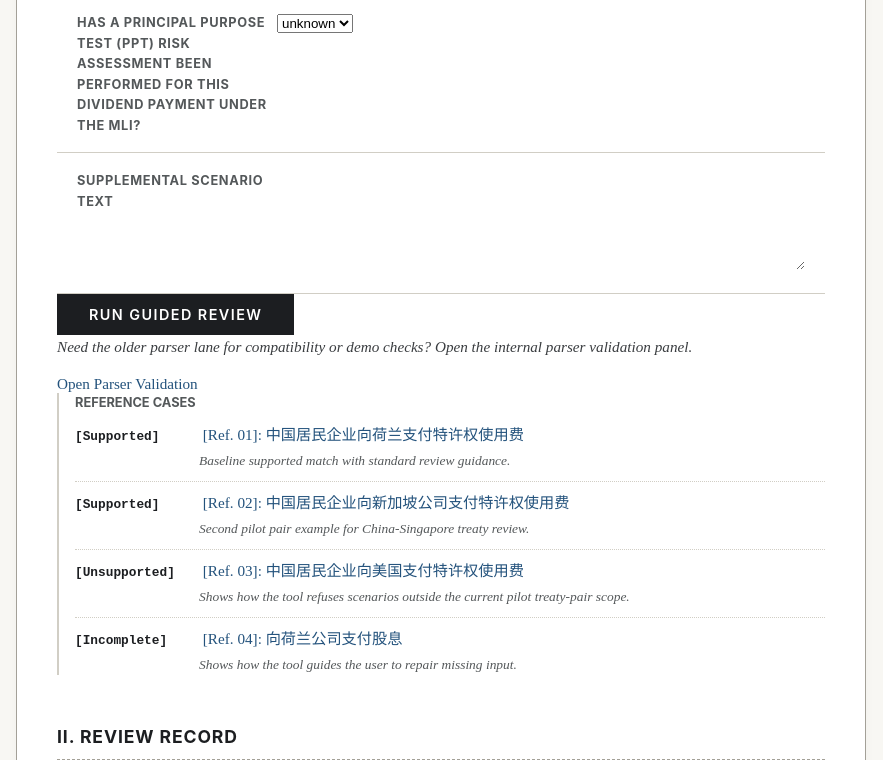
it: holds automatic treaty conclusion when source confidence is very low
(page scrolled)
Click the button "Open Parser Validation": point(127, 384) top-left (57, 375), bottom-right (198, 393)
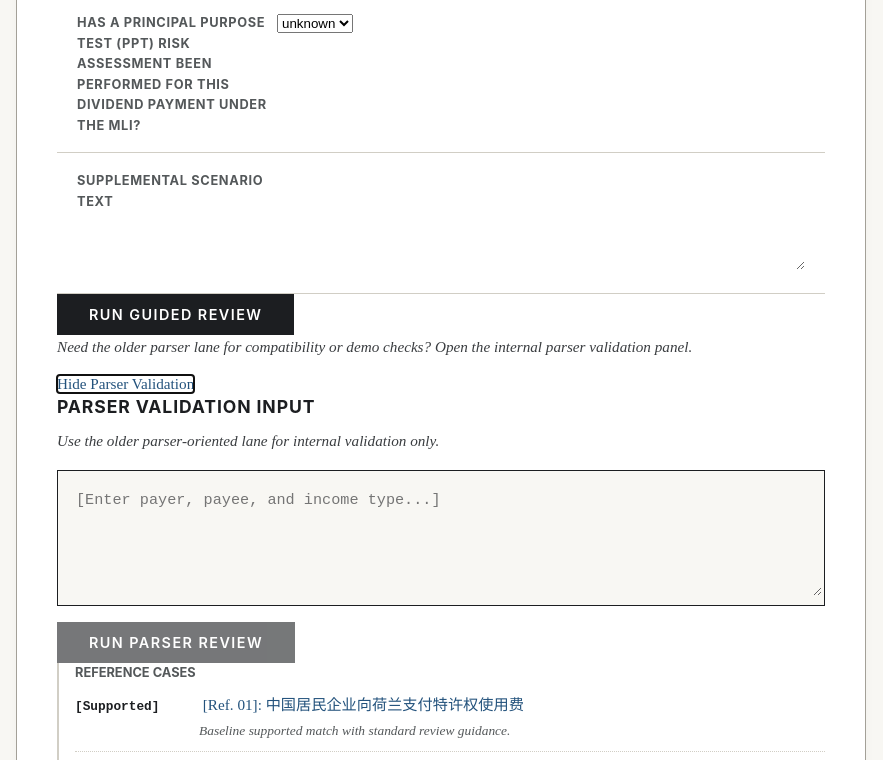
In the text box named "cross-border scenario": point(441, 534) top-left (60, 473), bottom-right (822, 596), type "中国居民企业向荷兰支付特许权使用费"
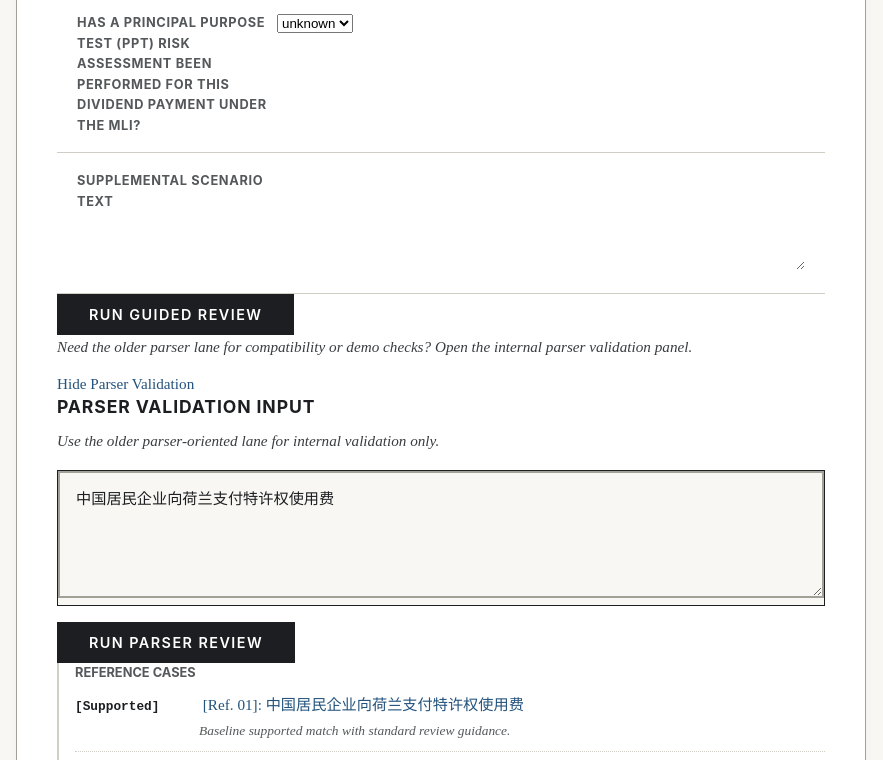
Click the button "Run Parser Review": point(176, 643) top-left (57, 622), bottom-right (295, 663)
(page scrolled)
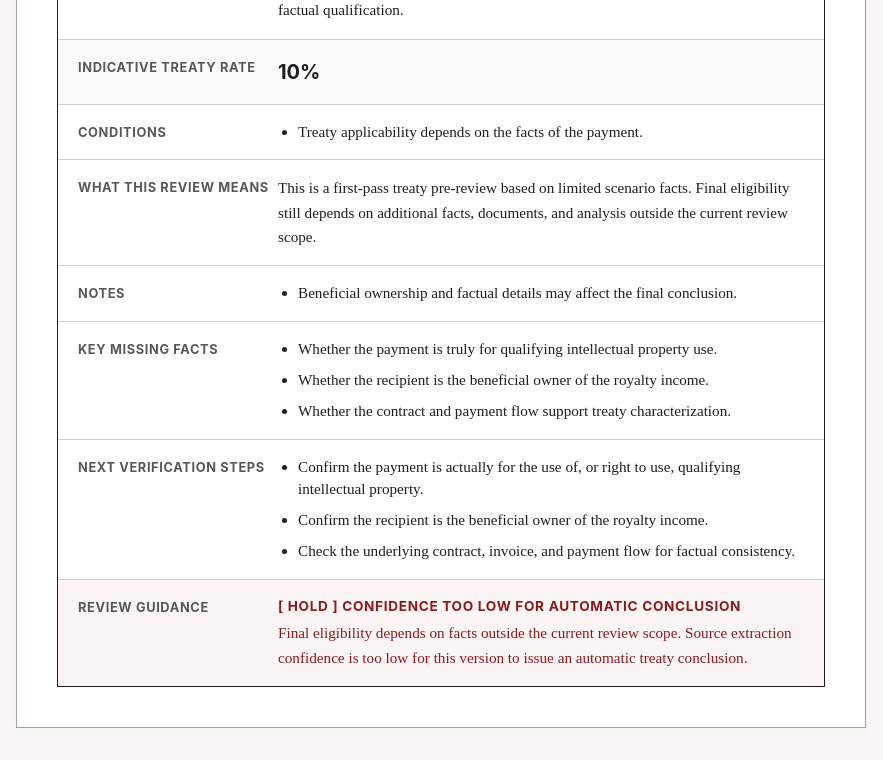
Now the text "[ HOLD ] Confidence too low for automatic conclusion" is shown, box top-left (278, 596), bottom-right (804, 618)
Now the text "automatic treaty conclusion" is shown, box top-left (278, 624), bottom-right (792, 666)
